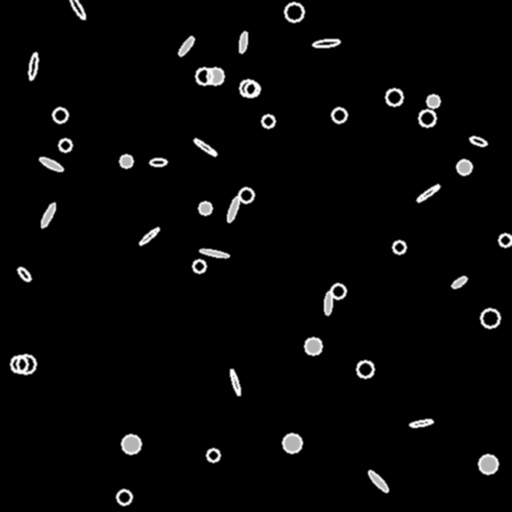pseudomonas: (367, 469, 389, 493), (416, 183, 440, 203), (193, 137, 217, 157), (38, 155, 64, 173), (39, 202, 57, 228), (138, 226, 160, 246), (67, 0, 87, 20), (177, 35, 195, 57), (226, 195, 240, 223), (229, 369, 241, 395), (16, 265, 32, 283), (200, 248, 228, 258), (313, 38, 339, 48), (28, 53, 38, 79), (450, 275, 468, 289), (238, 31, 248, 53), (469, 135, 487, 147), (410, 419, 432, 427), (324, 292, 332, 314), (149, 158, 167, 166)
synechocystis: (479, 455, 497, 473), (481, 309, 499, 327), (285, 3, 303, 21), (122, 435, 140, 453), (17, 355, 35, 373), (283, 434, 301, 452), (357, 361, 373, 377), (207, 68, 223, 84), (305, 338, 321, 354), (240, 80, 256, 96), (386, 89, 402, 105), (196, 68, 212, 84), (11, 356, 27, 372), (419, 110, 435, 126), (53, 108, 67, 122), (457, 160, 471, 174), (239, 188, 253, 202), (331, 284, 345, 298), (117, 490, 131, 504), (332, 108, 346, 122), (245, 82, 259, 96), (120, 155, 132, 167), (207, 449, 219, 461), (499, 234, 511, 246), (193, 260, 205, 272), (199, 202, 211, 214), (427, 95, 439, 107), (262, 115, 274, 127), (59, 139, 71, 151), (393, 241, 405, 253)
